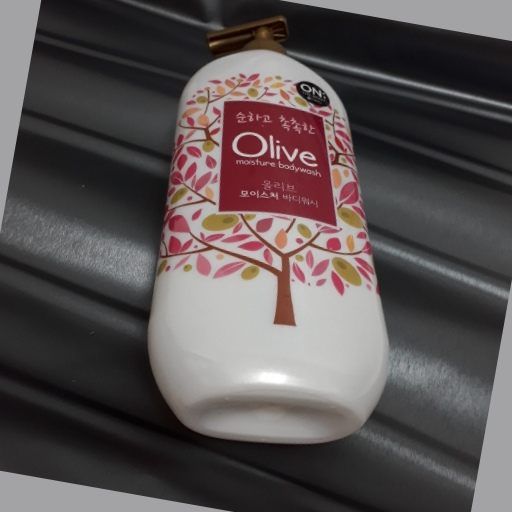Plastic_3: (139, 16, 394, 441)
